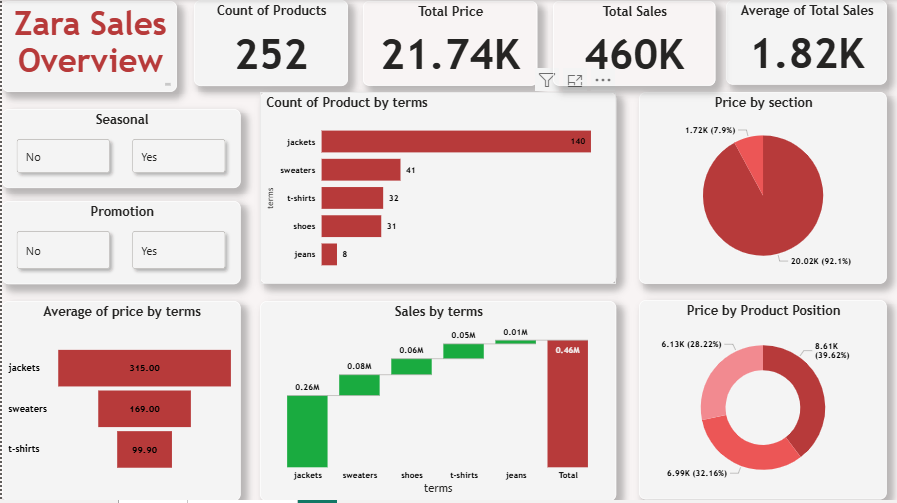

What the dashboard file says about the page in this screenshot:
{"tool":"powerbi","page":{"name":"Main","canvas":[1280,720],"ordinal":0},"visuals":[{"type":"advancedSlicerVisual","fields":{"Values":["zara.Seasonal"]},"box":[0,161.4,341.4,112.9],"z":0},{"type":"advancedSlicerVisual","fields":{"Values":["zara.Promotion"]},"box":[0,292.9,341.4,118.6],"z":1000},{"type":"card","title":"Count of Products","fields":{"Values":["CountNonNull(zara.terms)"]},"box":[273.8,5,220.1,122.6],"z":2000},{"type":"card","title":"Average of Total Sales","fields":{"Values":["Avg(zara.Sales Volume)"]},"box":[1034.3,5.7,230,121.4],"z":3000},{"type":"card","title":"Total Price","fields":{"Values":["Sum(zara.price)"]},"box":[515.7,6.7,248.6,120.9],"z":4000},{"type":"donutChart","title":"Price by Product Position","fields":{"Category":["zara.Product Position"],"Y":["Sum(zara.price)"]},"box":[910.2,434.6,354.1,285.4],"z":5000},{"type":"clusteredBarChart","title":"Count of Product  by terms","fields":{"Category":["zara.terms"],"Y":["CountNonNull(zara.Product ID)"]},"box":[367.9,137.7,509,273.8],"z":6000},{"type":"waterfallChart","title":"Sales by terms","fields":{"Category":["zara.terms"],"Y":["Sum(zara.Sales Volume)"]},"box":[367.9,435.1,509,285.6],"z":7000},{"type":"funnel","fields":{"Category":["zara.terms"],"Y":["Avg(zara.price)"]},"box":[0,435.1,341,285.6],"z":8000},{"type":"pieChart","title":"Price by section","fields":{"Category":["zara.section"],"Y":["Sum(zara.price)"]},"box":[910.4,137.7,354.4,273.8],"z":9000},{"type":"textbox","title":"Zara Sales Overview","box":[0,7.3,250.2,130.2],"z":10000},{"type":"card","title":"Total Sales","fields":{"Values":["Sum(zara.Sales Volume)"]},"box":[787.8,6.7,231.8,120.9],"z":11000}]}

Visuals, with their boxes in screenshot pixels (x1, y1, x2, y2), scaled from the page's 1280x720 canvas onto the 897x503 screenshot:
advancedSlicerVisual - zara.Seasonal: pyautogui.locateOnScreen(0, 113, 239, 192)
advancedSlicerVisual - zara.Promotion: pyautogui.locateOnScreen(0, 205, 239, 287)
"Count of Products" card: pyautogui.locateOnScreen(192, 3, 346, 89)
"Average of Total Sales" card: pyautogui.locateOnScreen(725, 4, 886, 89)
"Total Price" card: pyautogui.locateOnScreen(361, 5, 536, 89)
"Price by Product Position" donutChart: pyautogui.locateOnScreen(638, 304, 886, 502)
"Count of Product  by terms" clusteredBarChart: pyautogui.locateOnScreen(258, 96, 615, 287)
"Sales by terms" waterfallChart: pyautogui.locateOnScreen(258, 304, 615, 502)
funnel - zara.terms x Avg(zara.price): pyautogui.locateOnScreen(0, 304, 239, 502)
"Price by section" pieChart: pyautogui.locateOnScreen(638, 96, 886, 287)
"Zara Sales Overview" textbox: pyautogui.locateOnScreen(0, 5, 175, 96)
"Total Sales" card: pyautogui.locateOnScreen(552, 5, 715, 89)
